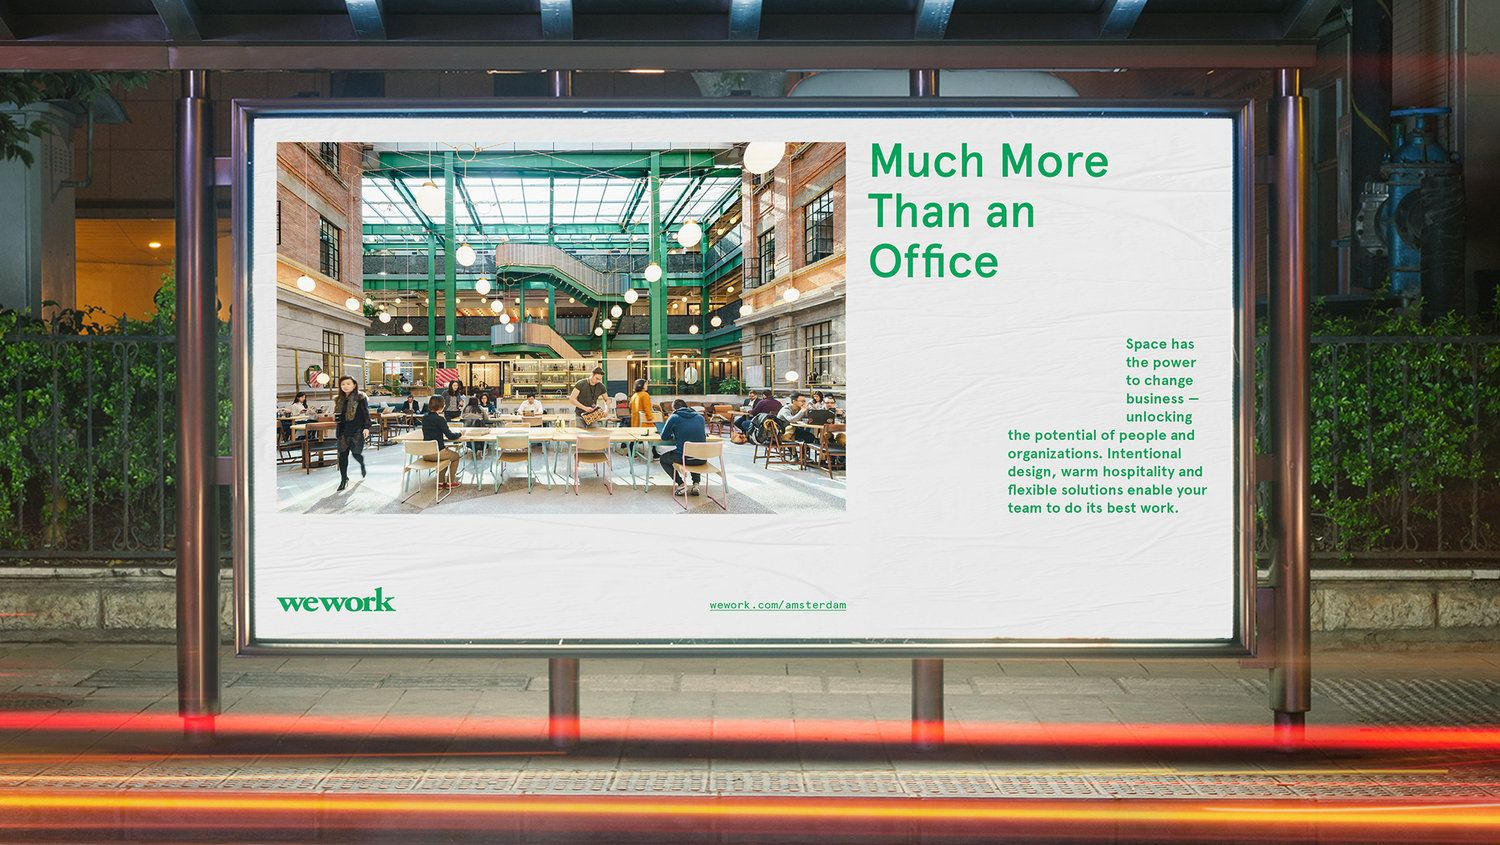wework: (274, 585, 398, 615)
